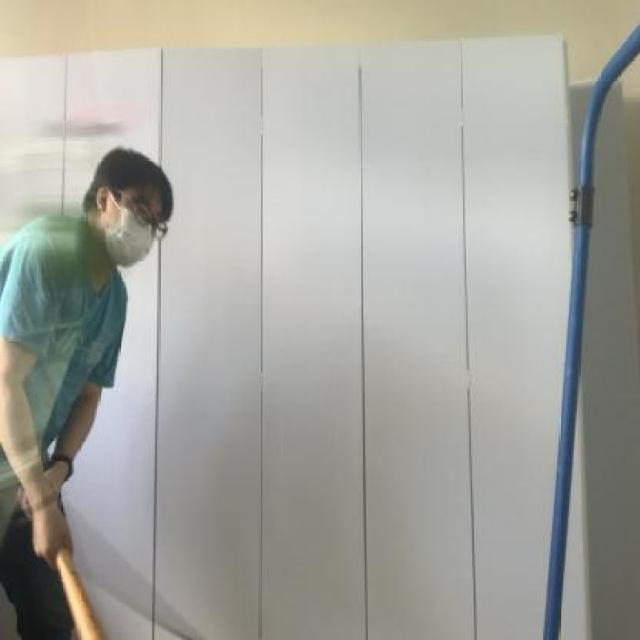baseball: (16, 199, 92, 298)
